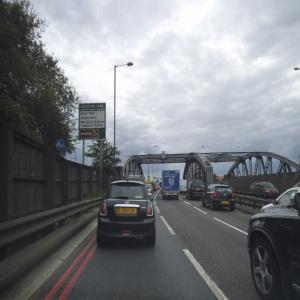Vehicle-registration-plate: (119, 208, 138, 214), (222, 201, 230, 206)
